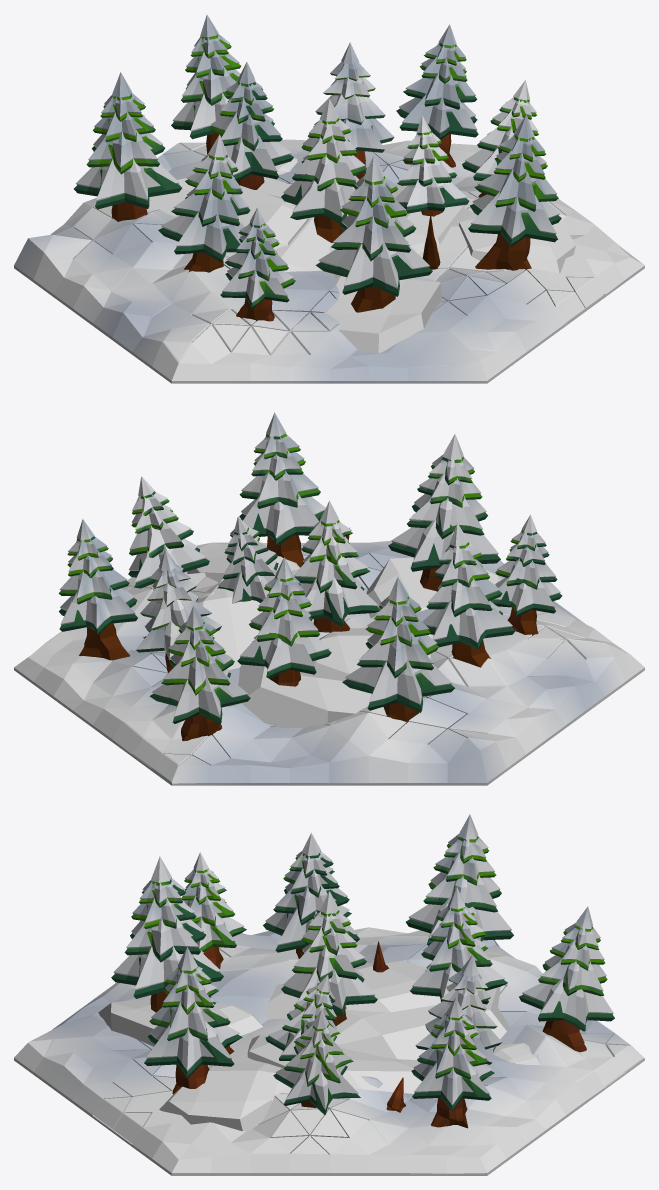
Rendered from tundra.glb.
The picture shows the model from 3 angles, top to bottom: view 1: azimuth 30°, elevation 25°; view 2: azimuth 150°, elevation 25°; view 3: azimuth 270°, elevation 25°; orthographic projection.
Parts seen in each view (by area): view 1: tundra; view 2: tundra; view 3: tundra.
Boxes of the visible parts, bbox=[...] form: tundra: bbox=[14, 15, 644, 383]; tundra: bbox=[14, 412, 644, 785]; tundra: bbox=[14, 814, 644, 1175].
Size of the model in its own units: 1.73 by 0.7117 by 2.
